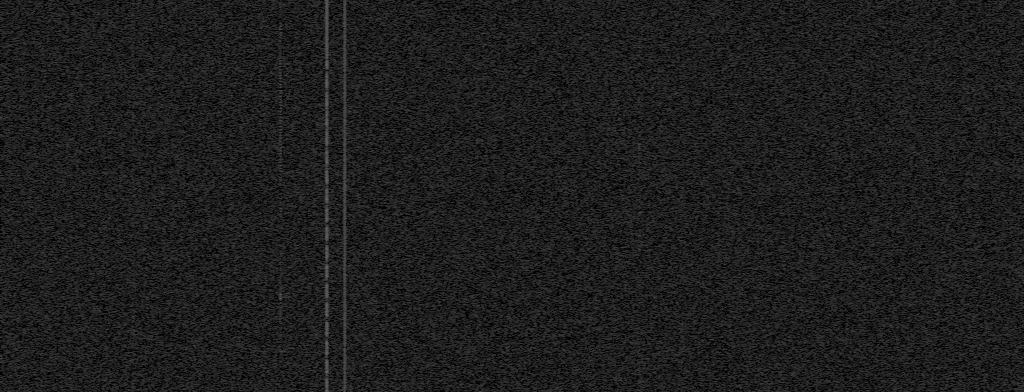wv_am: (324, 0, 330, 262), (324, 282, 330, 392), (324, 263, 330, 281)
wv_cw: (342, 0, 347, 392)
wv_lsb: (278, 37, 283, 134), (278, 135, 283, 189), (278, 274, 283, 324), (278, 192, 283, 226), (278, 2, 283, 36), (278, 325, 283, 341), (278, 250, 283, 265), (278, 266, 283, 273), (278, 366, 283, 372), (279, 356, 282, 363), (279, 345, 282, 351), (279, 352, 282, 355)
wv_usb: (131, 153, 135, 203), (131, 35, 136, 65), (637, 142, 642, 166), (131, 271, 135, 300), (637, 84, 641, 108), (131, 333, 136, 352), (637, 38, 642, 57), (131, 217, 135, 240), (131, 3, 135, 26), (131, 81, 135, 100), (637, 109, 641, 127), (131, 128, 135, 145), (637, 245, 641, 260), (131, 244, 135, 257), (131, 258, 135, 270), (637, 195, 641, 207), (131, 367, 135, 377), (637, 376, 641, 386), (637, 347, 641, 357), (637, 301, 641, 311), (637, 234, 641, 244), (637, 181, 641, 191), (637, 212, 641, 221), (131, 323, 135, 332), (131, 313, 135, 322), (131, 303, 135, 312), (131, 101, 135, 109), (131, 66, 135, 74), (637, 367, 641, 375), (637, 172, 641, 180), (637, 129, 641, 137), (637, 70, 641, 78), (637, 58, 641, 66), (131, 27, 135, 34), (637, 19, 641, 26), (131, 146, 135, 152), (132, 110, 135, 118), (638, 283, 641, 291), (637, 223, 641, 229), (131, 354, 135, 360), (638, 6, 641, 13), (131, 75, 135, 80), (638, 292, 641, 298), (131, 208, 135, 212), (637, 362, 641, 366), (637, 14, 641, 18), (638, 387, 641, 392), (132, 361, 135, 366), (638, 312, 641, 317), (638, 265, 641, 270), (131, 386, 135, 389), (131, 382, 135, 385), (131, 124, 135, 127), (638, 333, 641, 337), (637, 230, 641, 233), (637, 208, 641, 211), (132, 204, 135, 207), (132, 378, 135, 381), (638, 358, 641, 361), (638, 320, 641, 323), (638, 275, 641, 278), (638, 138, 641, 141)
